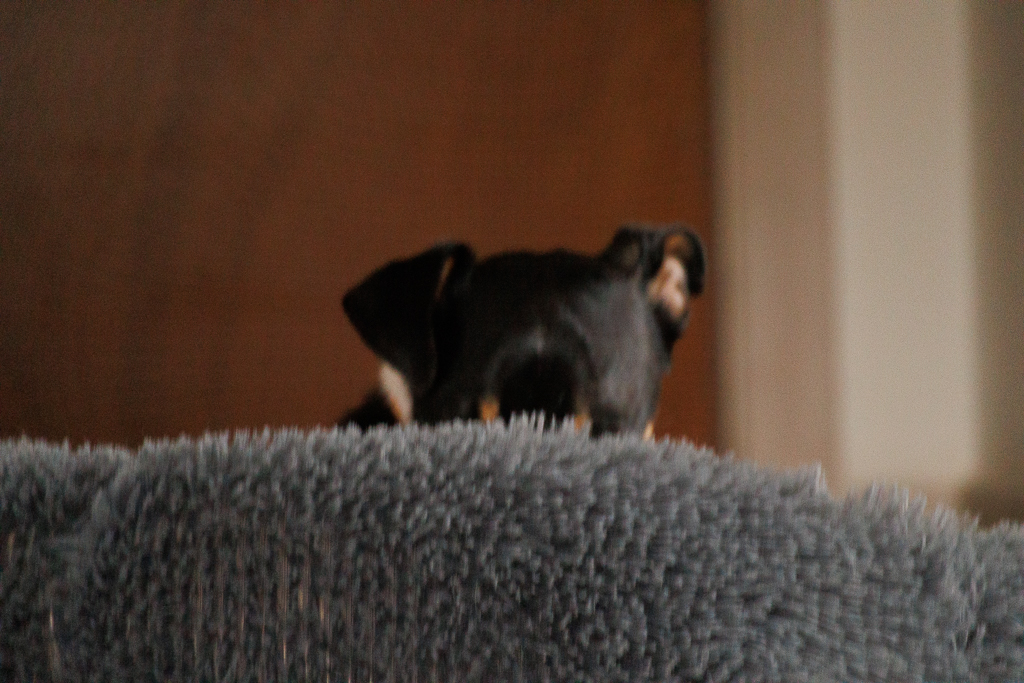Dog: (280, 189, 731, 478)
